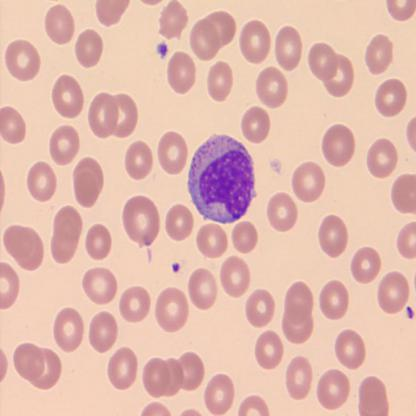Metamyelocyte: (187, 130, 258, 225)
